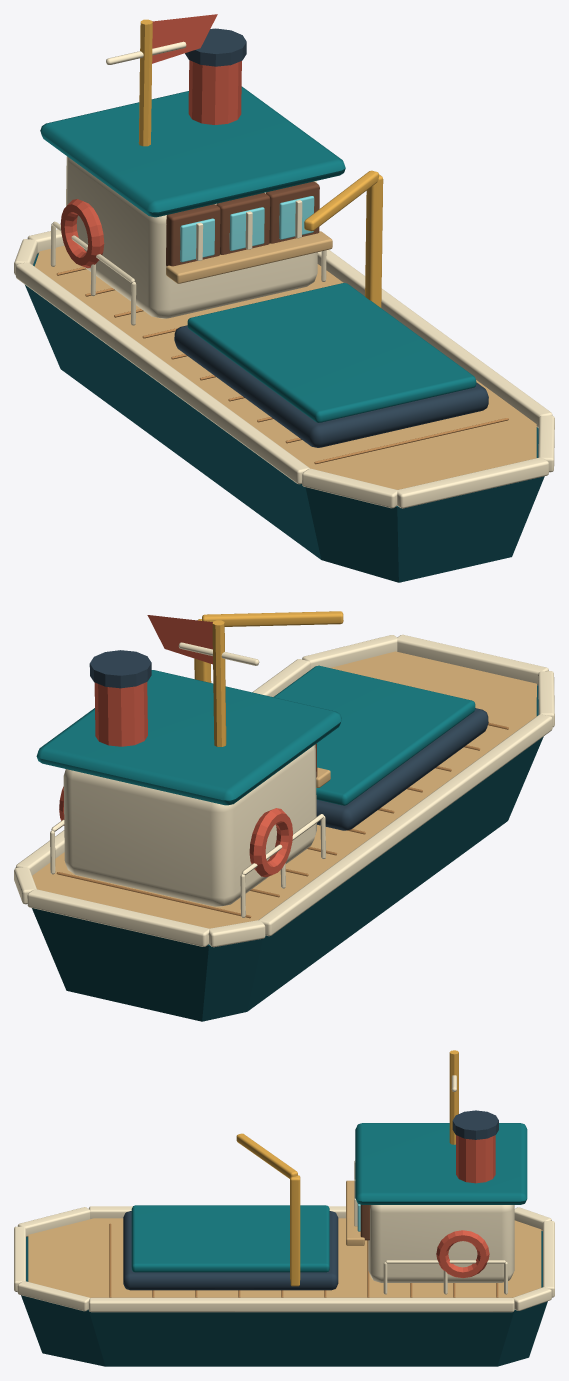
The model's file is CoastalFreighter.fbx.
3 renders of one model, top to bottom at view 1: azimuth 30°, elevation 25°; view 2: azimuth 150°, elevation 25°; view 3: azimuth 270°, elevation 25°, orthographic. The views are drawn at different scales.
Parts seen in each view (by area): view 1: CoastalFreighter_Static, Harbor pennant.002; view 2: CoastalFreighter_Static, Harbor pennant.002; view 3: CoastalFreighter_Static.
Boxes of the visible parts, box(x1,y1,x2,y2) form: CoastalFreighter_Static: box(14, 19, 554, 582); Harbor pennant.002: box(152, 14, 217, 63); CoastalFreighter_Static: box(14, 611, 554, 1021); Harbor pennant.002: box(147, 615, 212, 664); CoastalFreighter_Static: box(14, 1050, 554, 1366).
Size of the model in its own units: 2.58 by 3.44 by 6.29.
Materials: 1 (1 with a texture image).
